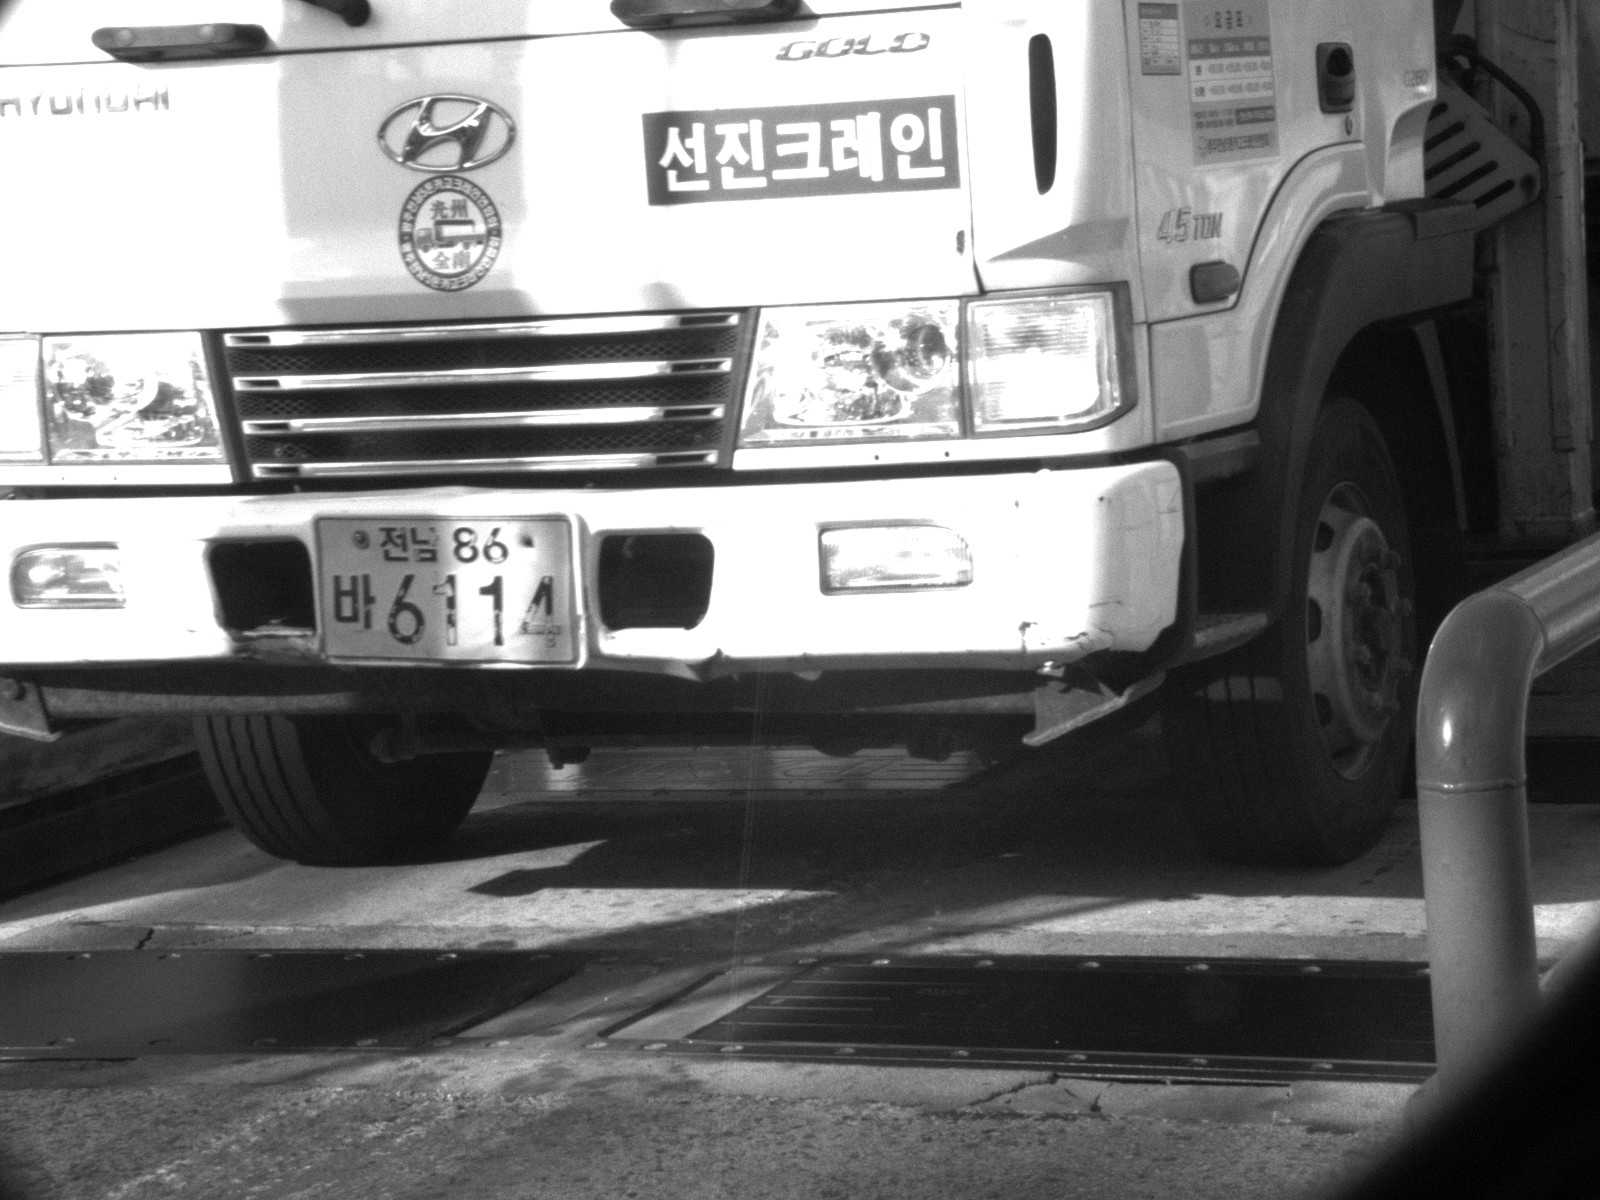car: (1, 1, 1598, 868)
plate: (304, 509, 599, 673)
